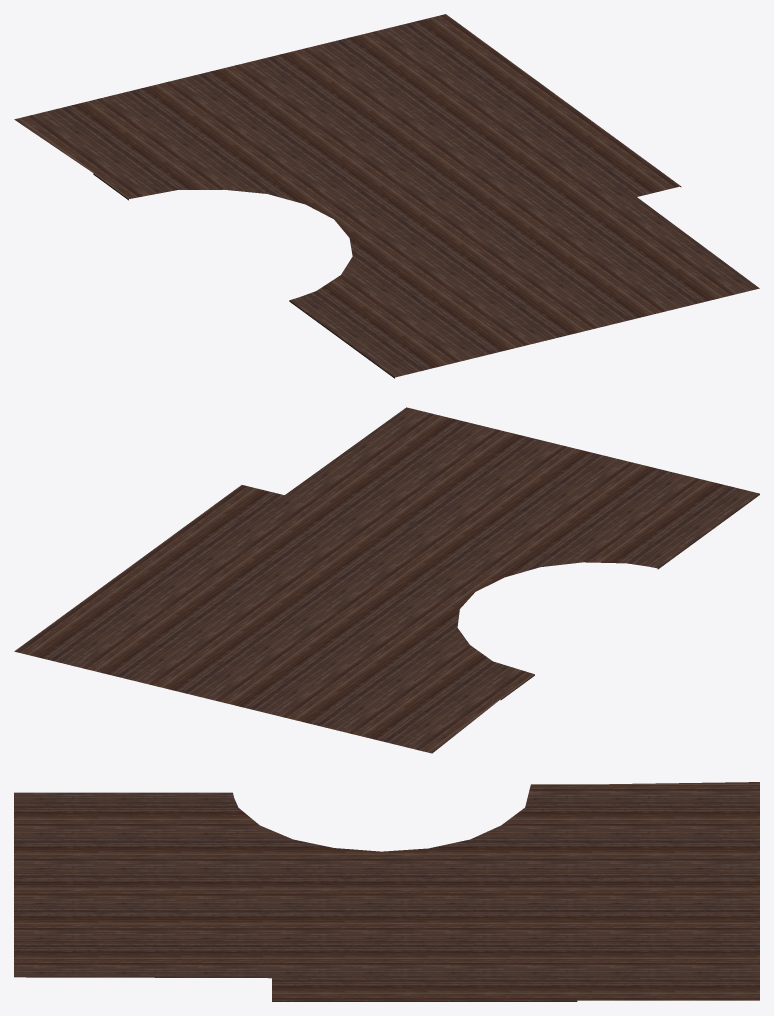
File: htfloorsolid.obj
The picture shows the model from 3 angles, top to bottom: view 1: azimuth 30°, elevation 25°; view 2: azimuth 150°, elevation 25°; view 3: azimuth 270°, elevation 25°; orthographic projection. The views are drawn at different scales.
Visible parts, largest first — view 1: parlor:Combined parlor:Mesh parlor:scene_ parlor:set1 parlor:pol, parlor:polySurface2 parlor:polySurface1; view 2: parlor:Combined parlor:Mesh parlor:scene_ parlor:set1 parlor:pol, parlor:polySurface2 parlor:polySurface1; view 3: parlor:Combined parlor:Mesh parlor:scene_ parlor:set1 parlor:pol, parlor:polySurface2 parlor:polySurface1.
Part boxes in pixels (x1=…): parlor:Combined parlor:Mesh parlor:scene_ parlor:set1 parlor:pol: x1=14, y1=14, x2=759, y2=378; parlor:polySurface2 parlor:polySurface1: x1=94, y1=43, x2=497, y2=266; parlor:Combined parlor:Mesh parlor:scene_ parlor:set1 parlor:pol: x1=14, y1=407, x2=759, y2=753; parlor:polySurface2 parlor:polySurface1: x1=131, y1=513, x2=497, y2=734; parlor:Combined parlor:Mesh parlor:scene_ parlor:set1 parlor:pol: x1=14, y1=782, x2=759, y2=1001; parlor:polySurface2 parlor:polySurface1: x1=205, y1=822, x2=759, y2=939.
Size of the model in its own units: 16.94 by 0.0521 by 24.43.
1 material, 1 textured.
